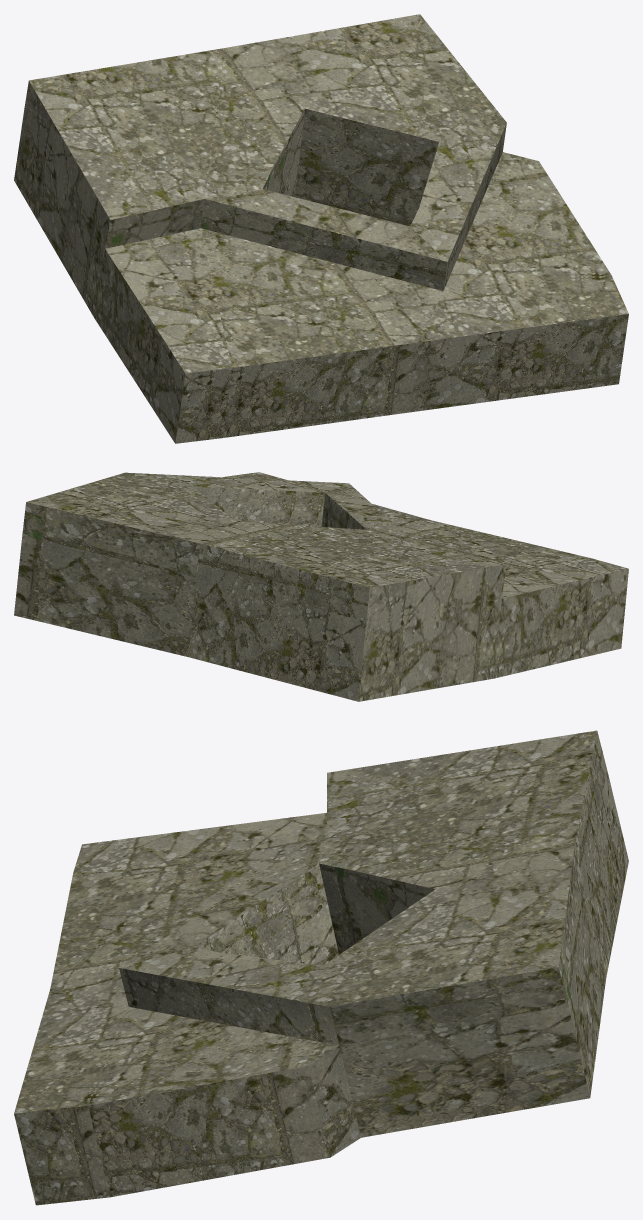
File: SM_Chateaux_04_06.fbx
3 views of the same model, one above another, from view 1: azimuth 30°, elevation 25°; view 2: azimuth 150°, elevation 25°; view 3: azimuth 270°, elevation 25° (orthographic). The views are drawn at different scales.
Visible parts, largest first — view 1: SM_Chateaux_04_06; view 2: SM_Chateaux_04_06; view 3: SM_Chateaux_04_06.
Part boxes in pixels (left/top/right/bottom): SM_Chateaux_04_06: left=14, top=14, right=628, bottom=443; SM_Chateaux_04_06: left=14, top=472, right=628, bottom=701; SM_Chateaux_04_06: left=14, top=730, right=628, bottom=1205.
Bounding box in the file's own units: 958 × 449 × 944.
